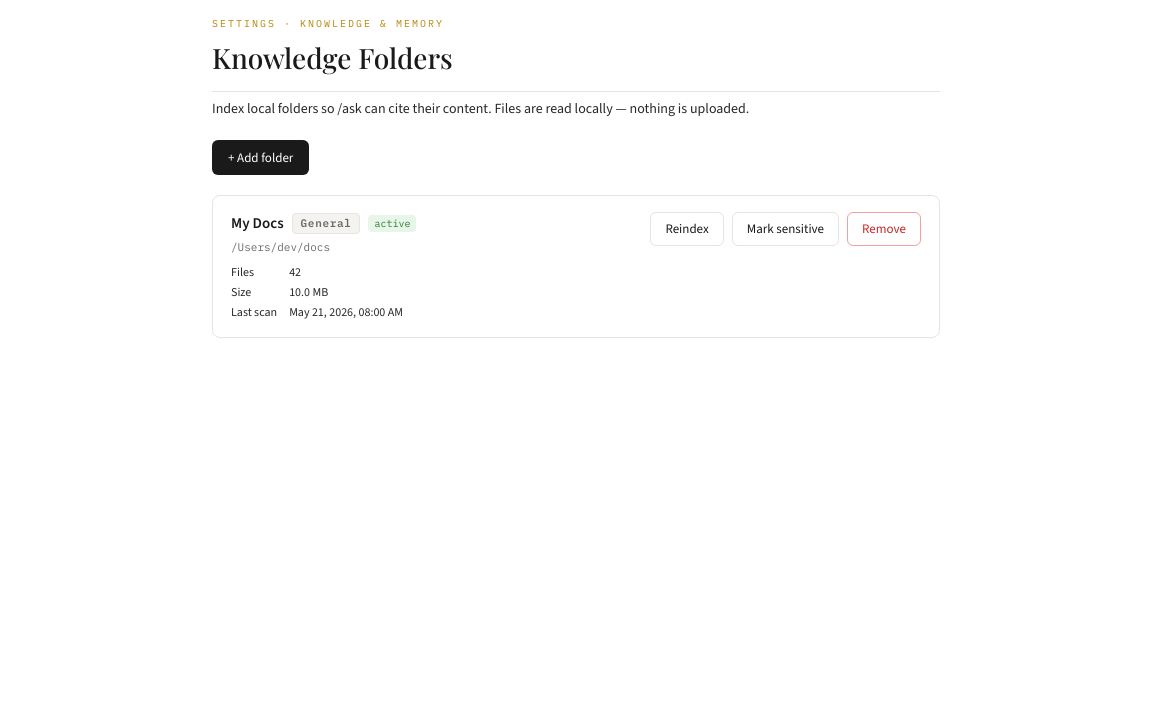
Test: KnowledgeFoldersSection — destructive-remove split 1 › clicking Remove renders the confirm dialog containing the folder label
This screenshot has width=1152, height=720.
Expected: the text "My Docs" is shown, [231,212,284,235]
Click the button with test id "kf-remove-folder-1" at (884, 229), box [847,212,921,246]
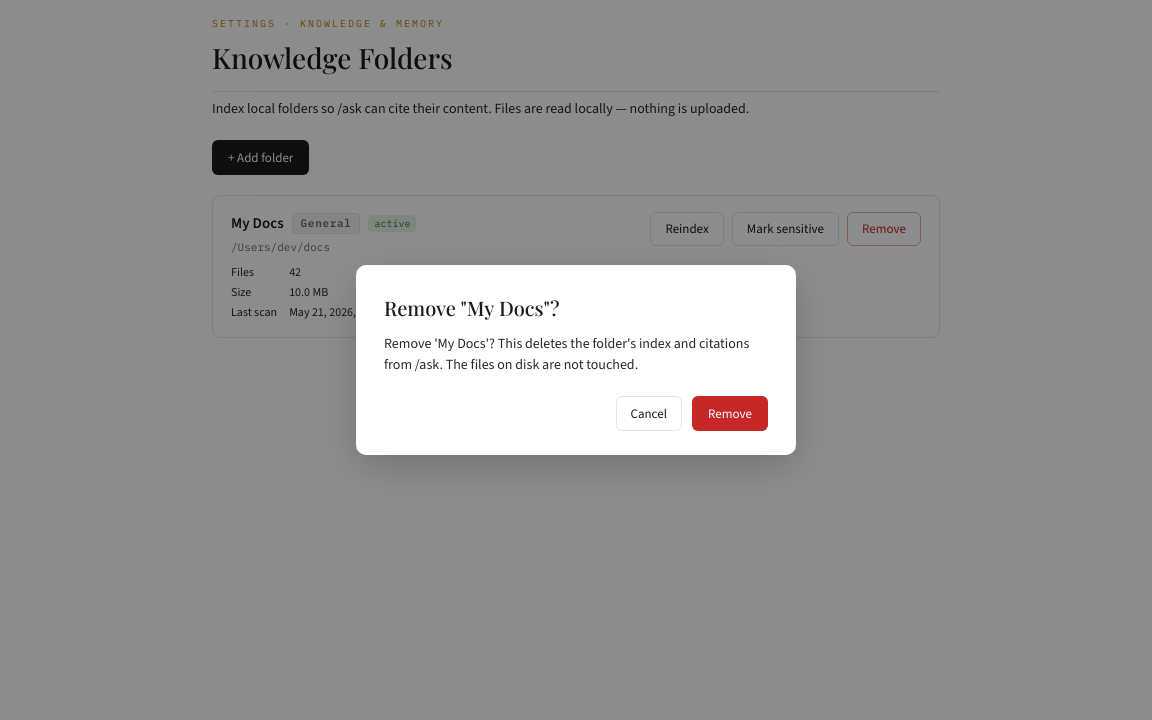
Result: the dialog shows "My Docs" at [384,294,560,321]
